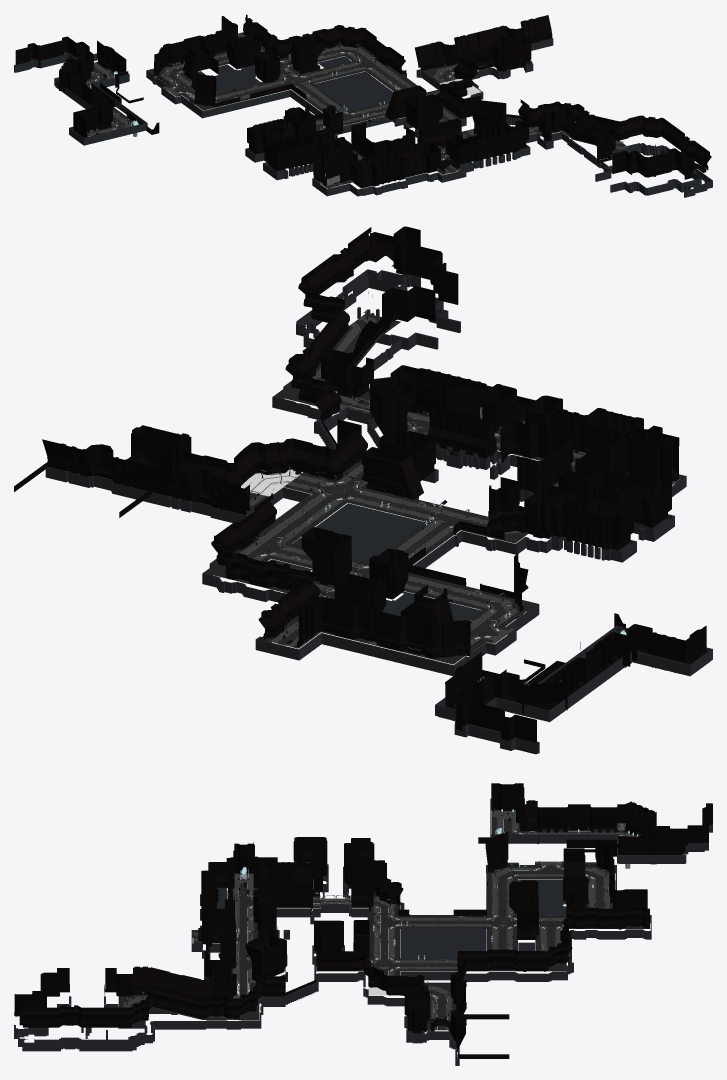
File: isle_tron.glb
3 views of the same model, one above another, from view 1: azimuth 30°, elevation 25°; view 2: azimuth 150°, elevation 25°; view 3: azimuth 270°, elevation 25° (orthographic). The views are drawn at different scales.
Visible parts, largest first — view 1: tron; view 2: tron; view 3: tron.
Part boxes in pixels (box(x1,y1,x2,y2)): tron: box(14, 14, 712, 197); tron: box(14, 226, 712, 754); tron: box(14, 783, 712, 1065).
Size of the model in its own units: 600 by 57.78 by 684.
57 materials, 52 textured.
